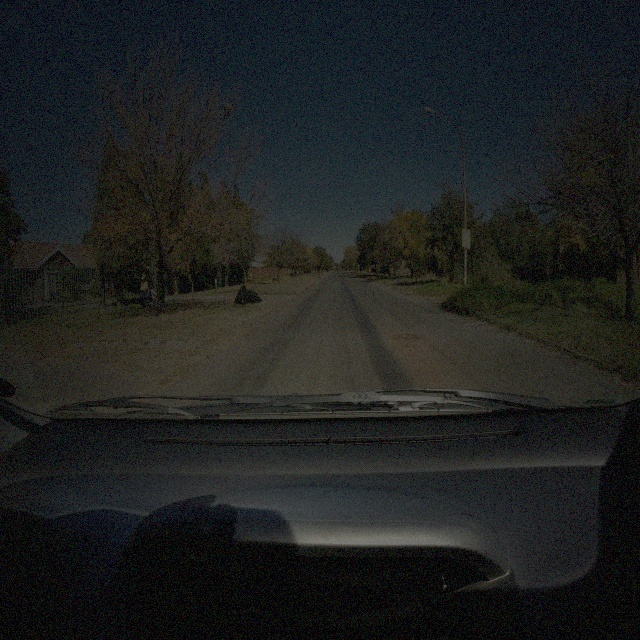pothole: (390, 331, 420, 342)
